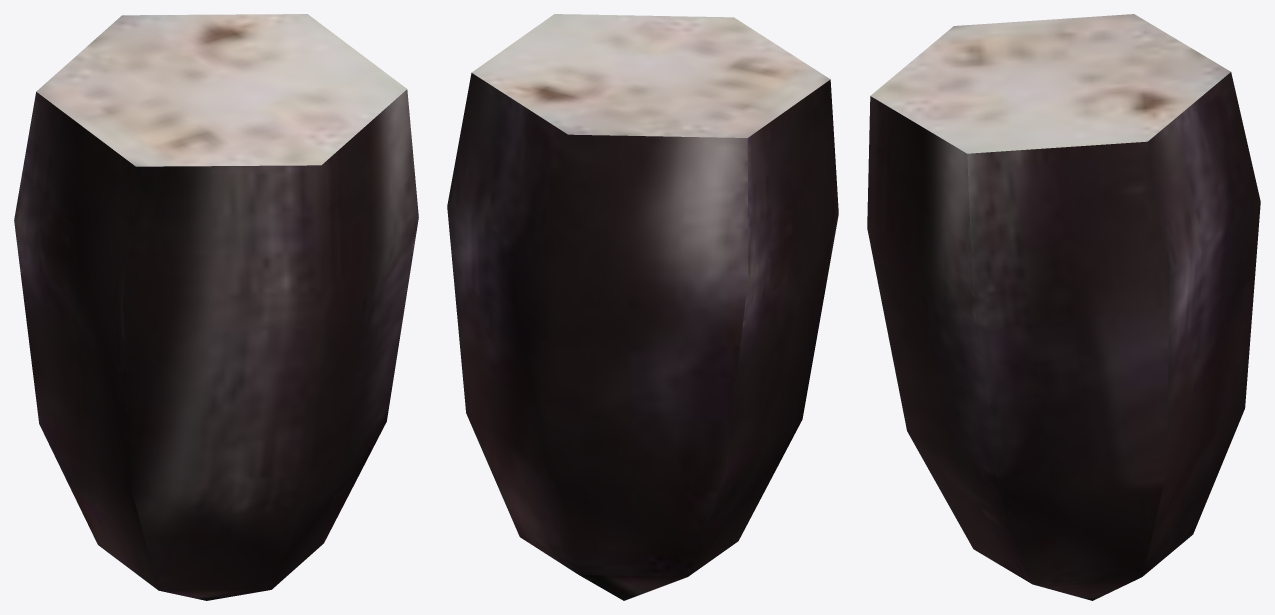
File: Eggplant_02.glb
3 renders of one model, left to right at view 1: azimuth 30°, elevation 25°; view 2: azimuth 150°, elevation 25°; view 3: azimuth 270°, elevation 25°, orthographic. The views are drawn at different scales.
Parts seen in each view (by area): view 1: Eggplant_02; view 2: Eggplant_02; view 3: Eggplant_02.
Boxes of the visible parts, x1,y1,x2,y2 form: Eggplant_02: (14, 14, 418, 600); Eggplant_02: (447, 14, 838, 600); Eggplant_02: (867, 14, 1260, 600).
Size of the model in its own units: 0.0647 by 0.1066 by 0.0728.
1 material, 1 textured.
